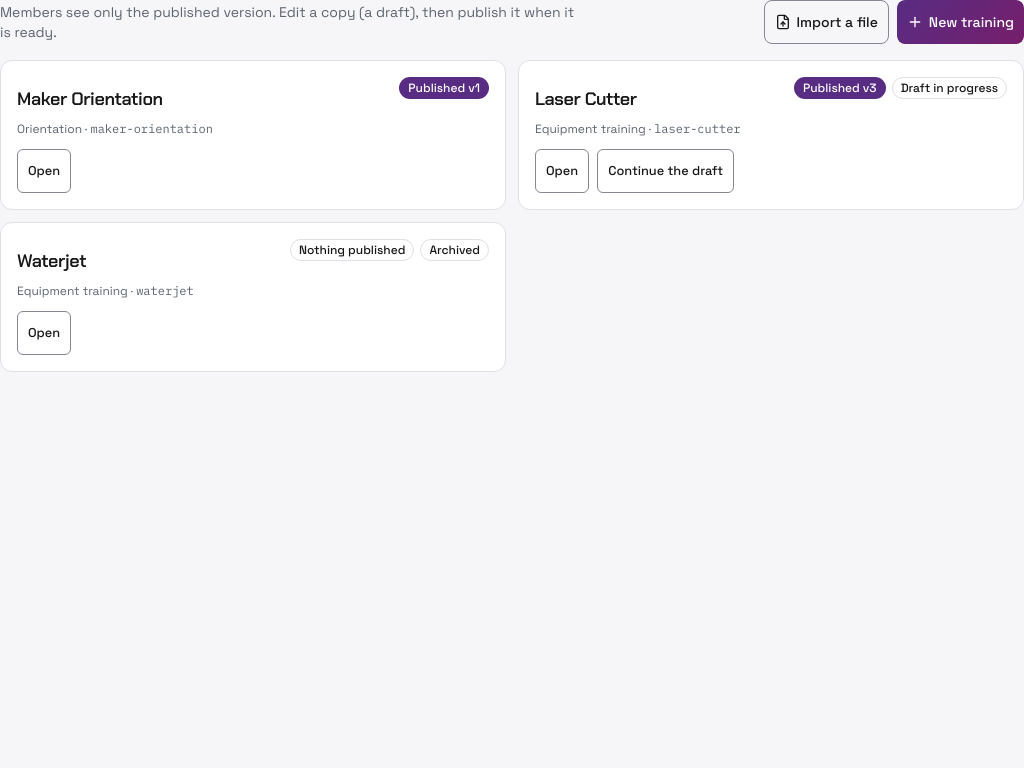
Test: TrainingsList creating a training › shows a taken slug as the server reports it
Expected: the heading "Laser Cutter" is shown, [535,87,637,111]
Click the button "New training": (960, 22) [897,0,1023,44]
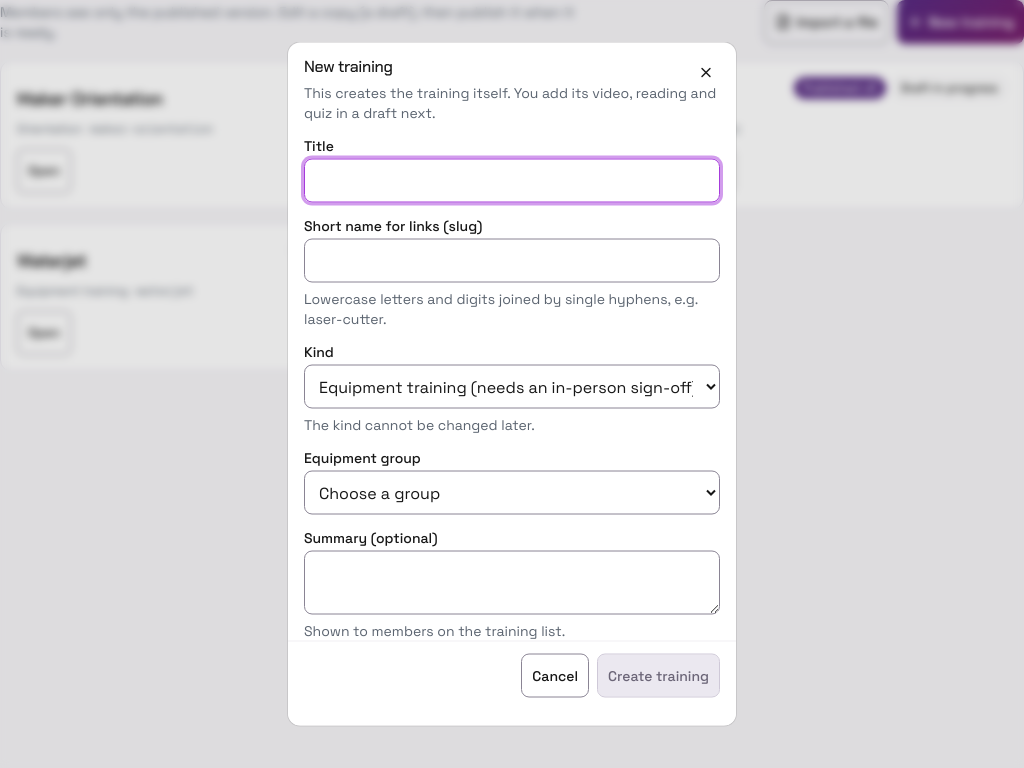
Select "Orientation (fully online)" in the dropdown labelled "Kind": (512, 386) [304,364,720,408]
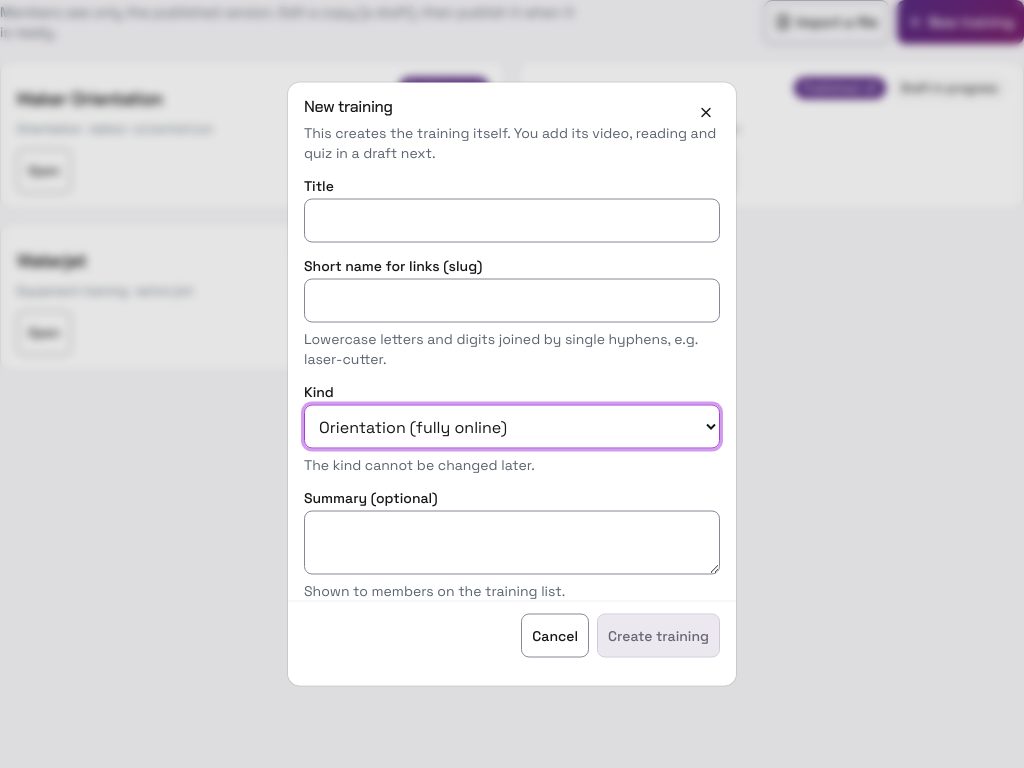
In the field labelled "Title": (512, 220) [304,198,720,242], type "Welcome"
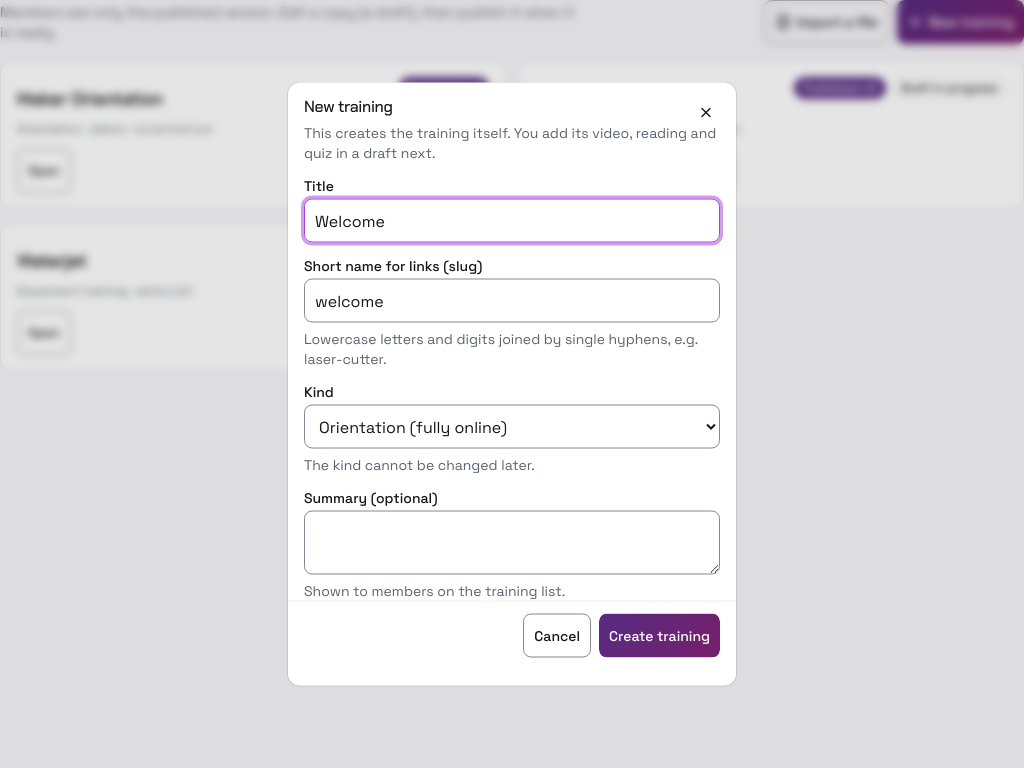
Click the button "Create training": (660, 636) [599,614,720,658]
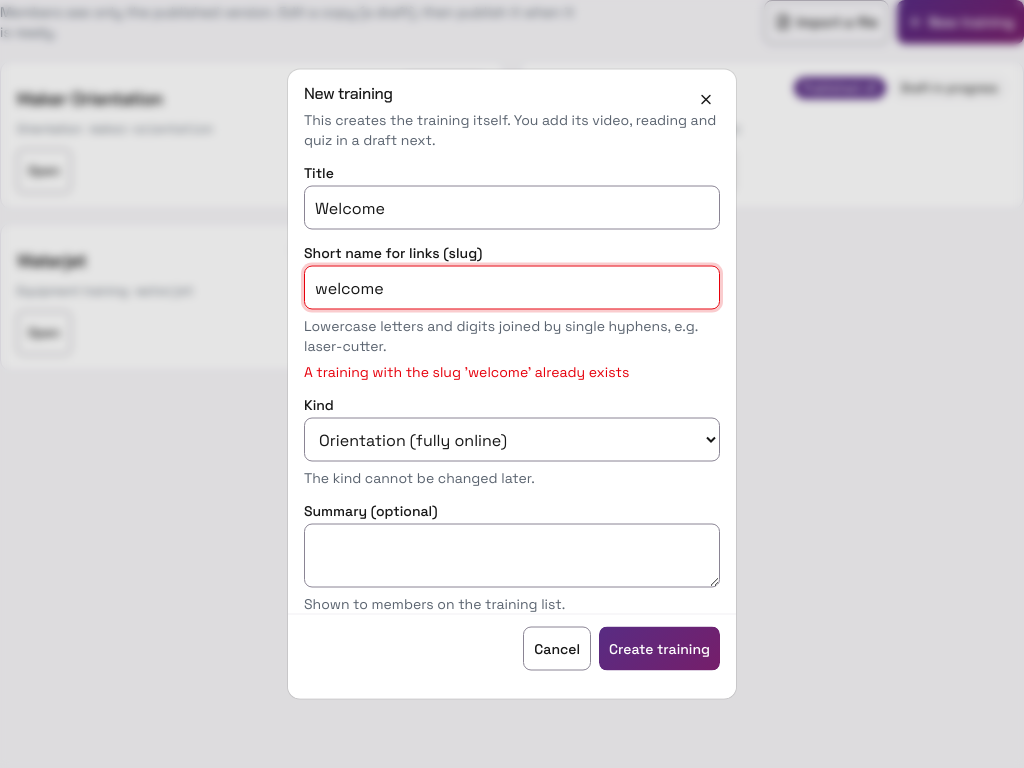
Expected: the text "A training with the slug 'welcome' already exists" is shown, [304,362,629,380]
